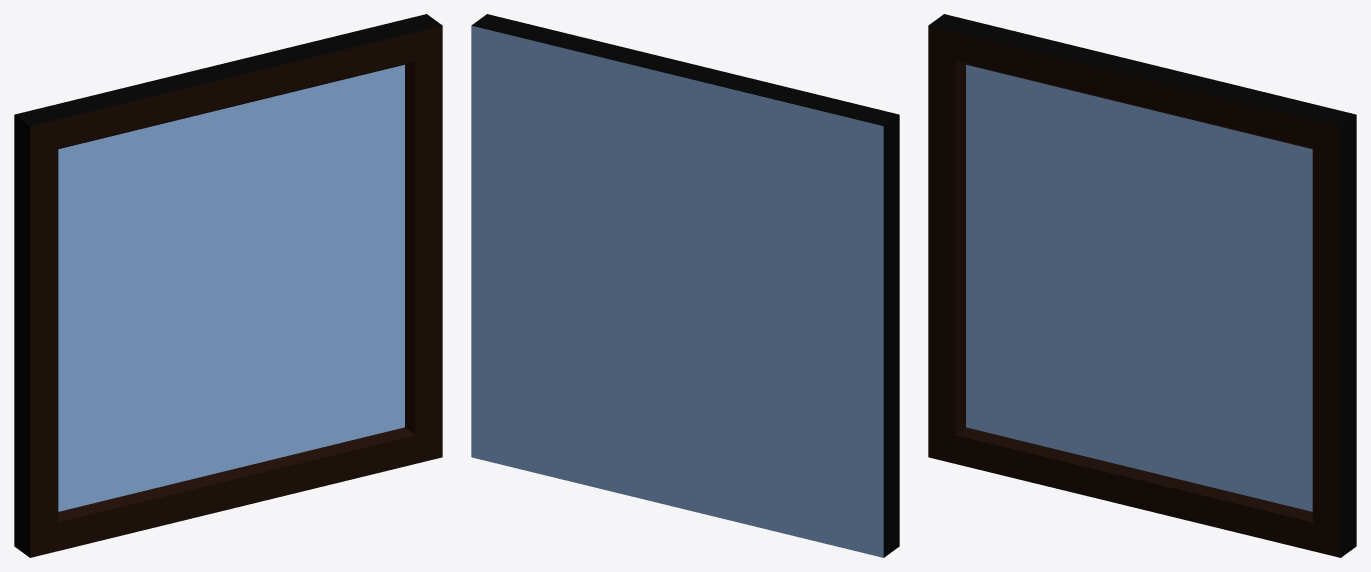
File: Painting 005.FBX
3 renders of one model, left to right at view 1: azimuth 30°, elevation 25°; view 2: azimuth 150°, elevation 25°; view 3: azimuth 330°, elevation 25°, orthographic.
Parts seen in each view (by area): view 1: Painting 005; view 2: Painting 005; view 3: Painting 005.
Boxes of the visible parts, left/top/right/bottom form: Painting 005: left=14, top=14, right=442, bottom=557; Painting 005: left=471, top=14, right=899, bottom=557; Painting 005: left=928, top=14, right=1356, bottom=557.
Bounding box in the file's own units: 1.5 × 1.5 × 0.1.
